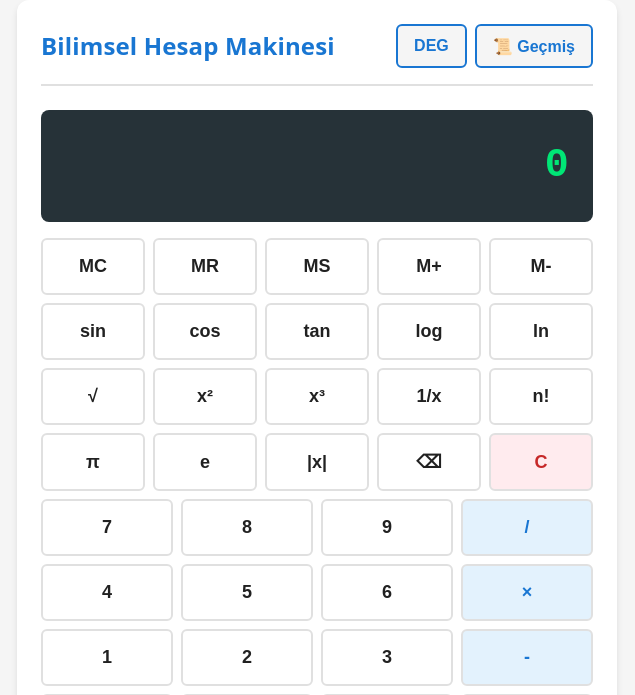
it: ScientificCalculator › Scientific Functions › should calculate square root
Click the button labelled "9" at (387, 528), box [321,499,453,556]
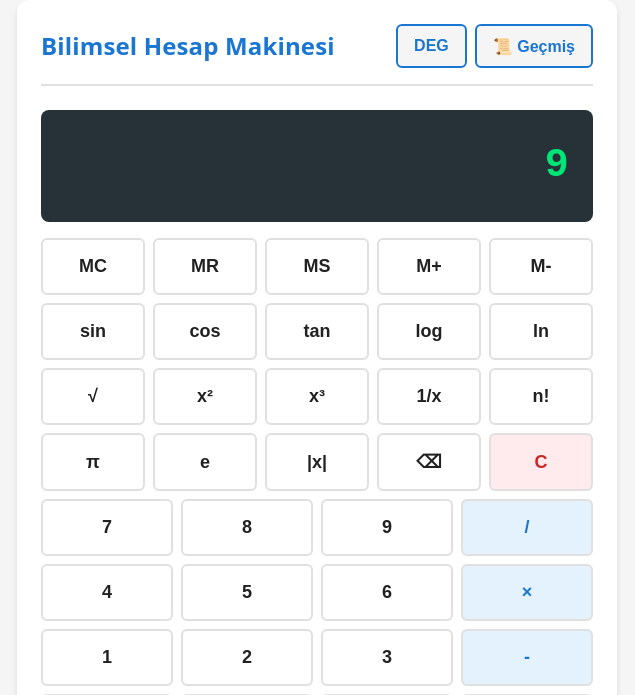
Click the button named "Karekök" at (93, 396), box [41,368,145,425]
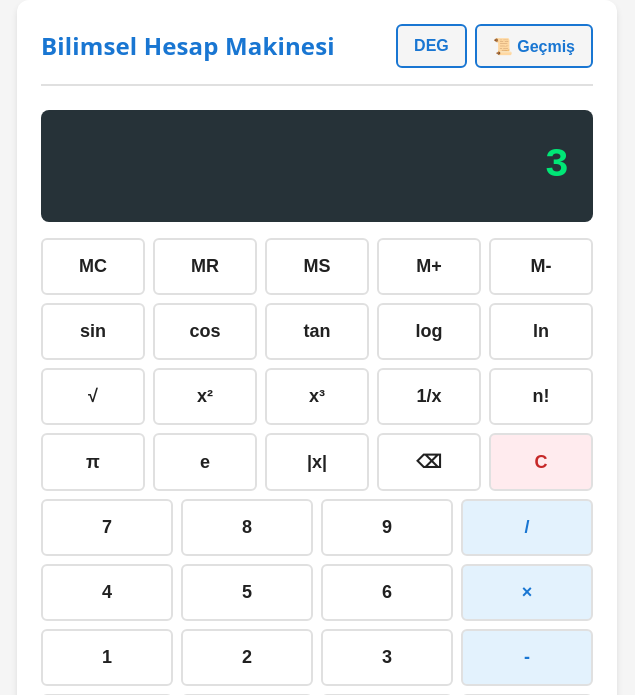
Now the text with class "main-display" reads "3", box [545,143,569,188]
